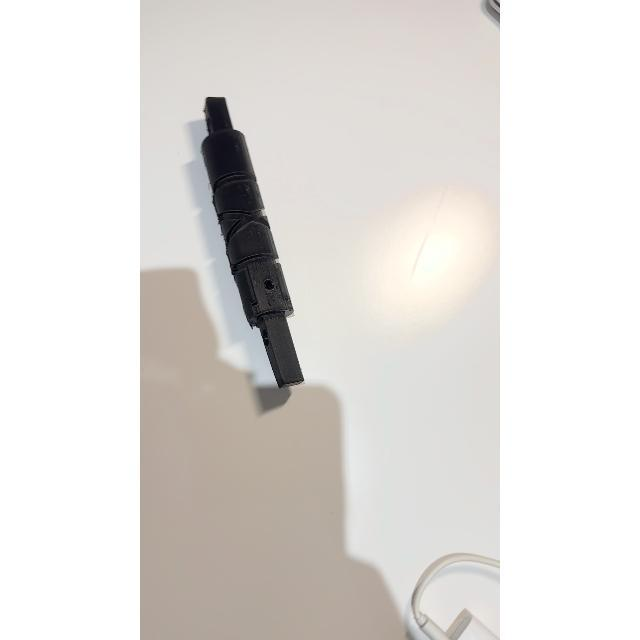Pieza1: (180, 90, 328, 406)
